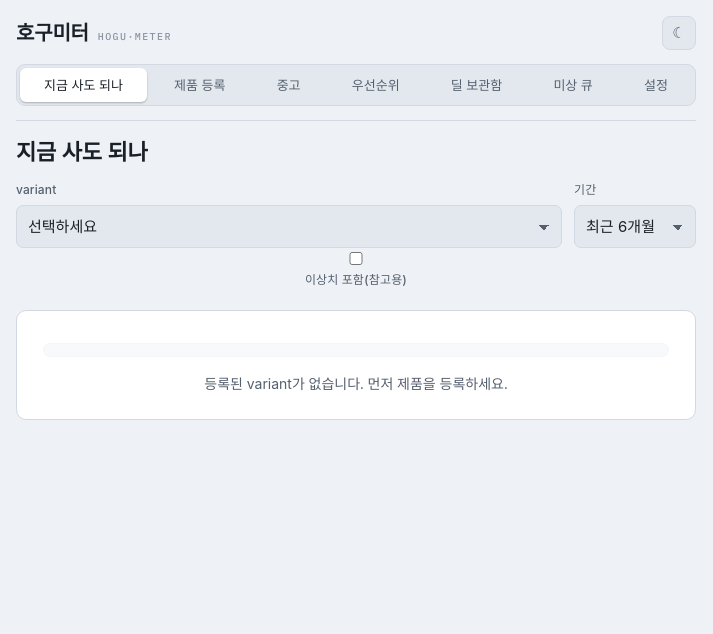
Test: App › 탭으로 딜 보관함 화면에 간다
Click the button "딜 보관함". click: (476, 85)
box: [427,68,526,102]
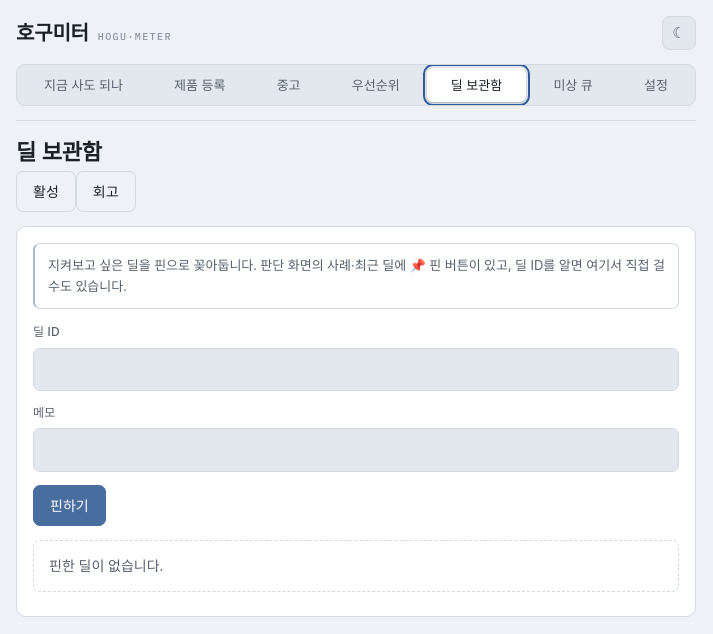
Expected: the heading "딜 보관함" is shown, [16,139,102,165]
